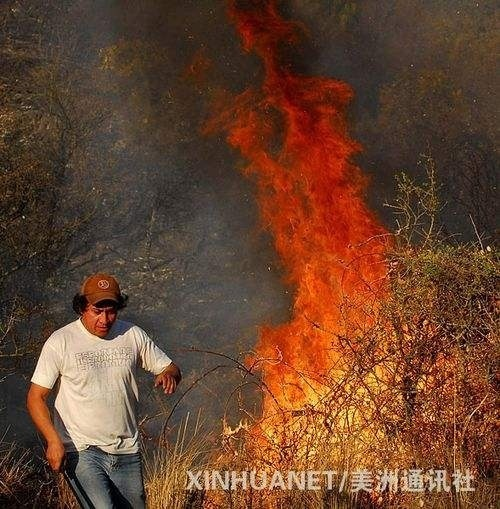fire: (142, 39, 434, 447)
